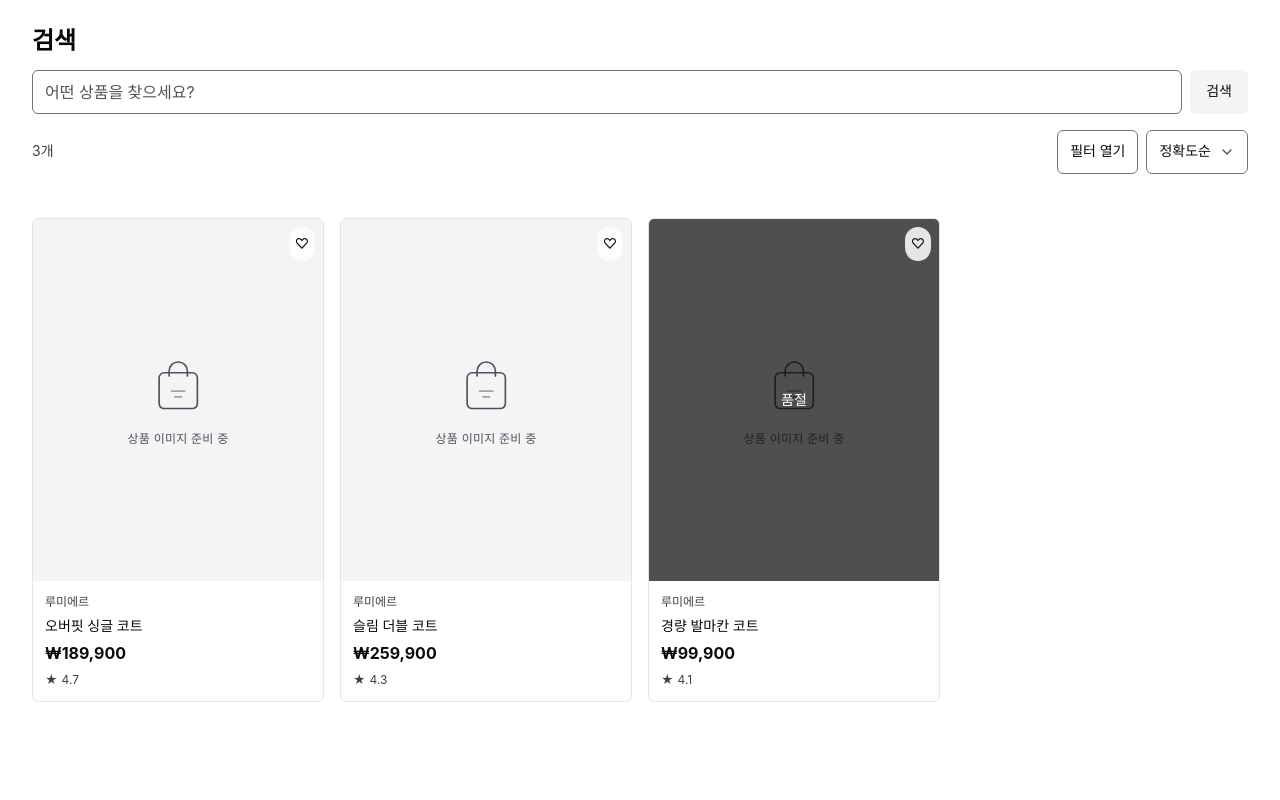
it: F9 모바일 필터 › opens the panel as a sheet at 360px and closes it on 결과 보기
Click the button "필터 열기" at x=1098, y=152, box [1057,130,1138,174]
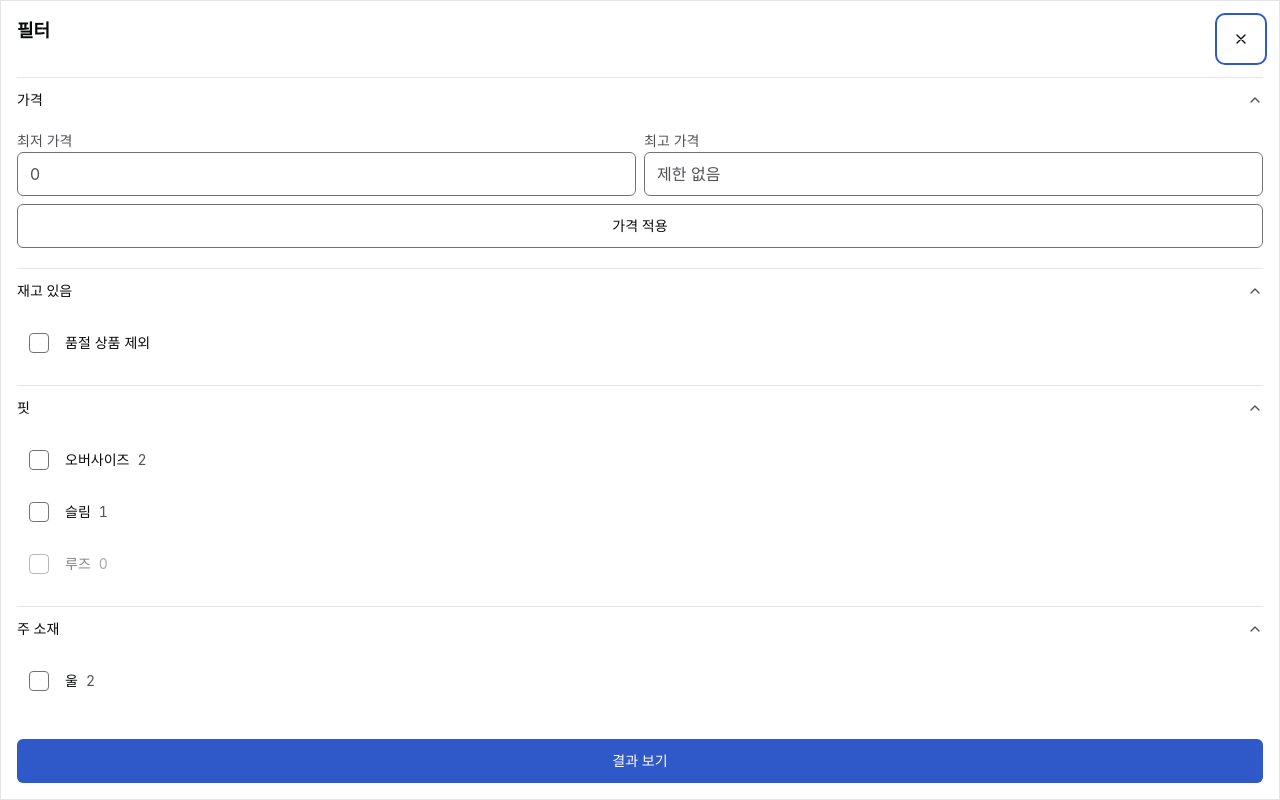
Expected: the button "핏" is shown, [17,386,1263,430]
Click the button "결과 보기" at x=640, y=761, box [17,739,1263,783]
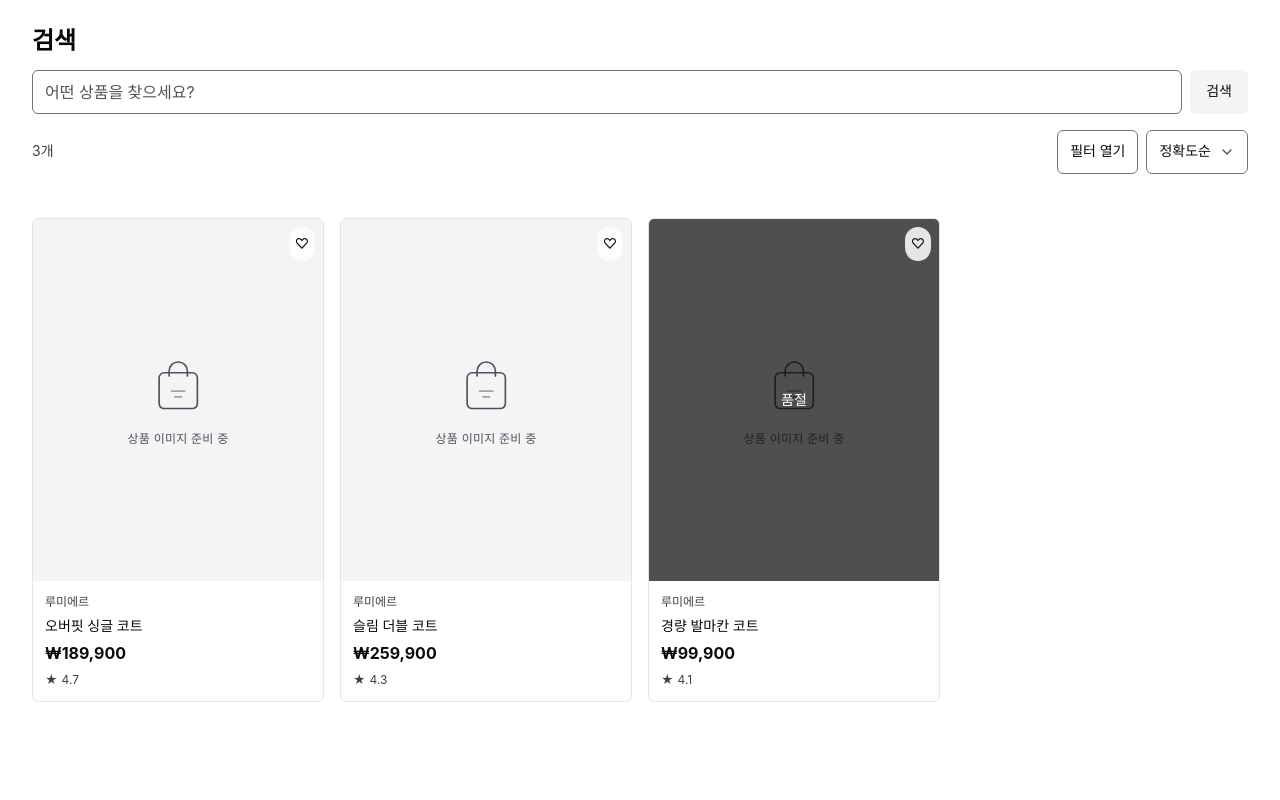
Expected: the dialog is gone
